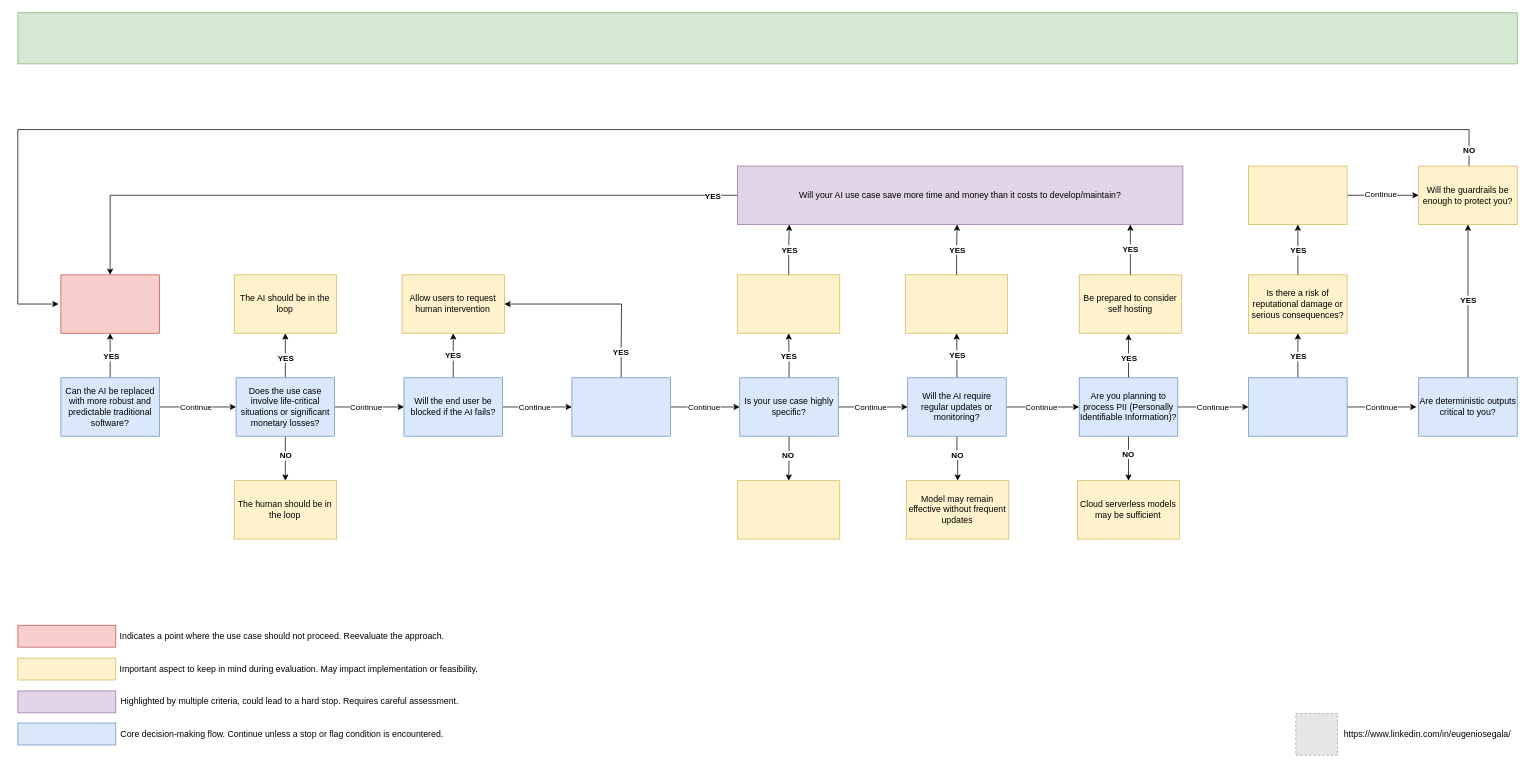
This 1530x768 diagram has some shape labels left out. Grey dashed boxes stand in for pictures. Each missing label, with the box of its shape:
Be prepared to update or retrain models regularly: (905, 274, 1008, 333)
Can bias influence the AI's decision?: (571, 377, 670, 436)
Consider introducing guardrails: (1248, 165, 1347, 224)
Drop the use case and consider different approaches: (60, 274, 159, 333)
Framework for evaluating Gen AI use-cases: (17, 12, 1517, 64)
Pre-trained models may be sufficient: (737, 480, 840, 539)
Will your model be used by the public?: (1248, 377, 1347, 436)
You may need to fine-tune or customise the model: (737, 274, 840, 333)
